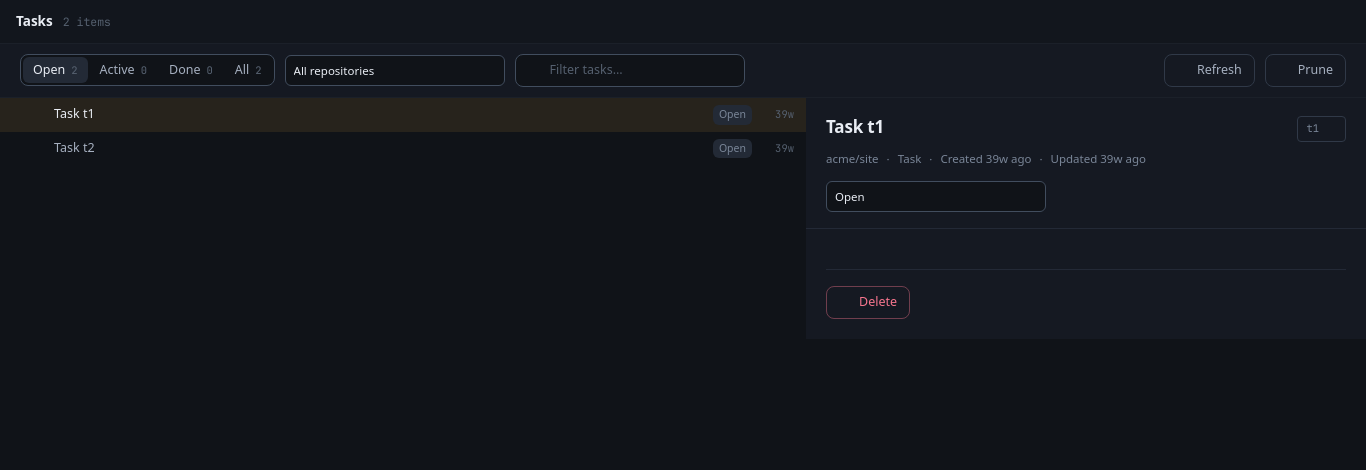
Test: TasksView › selects the first row of the new list when a repo switch drops the selection
The image size is (1366, 470).
Expected: the heading with test id "task-detail-title" reads "Task t1", [826,115,884,138]
Click the button with test id "tasks-repo-select".
click(394, 70)  # box [284,55,504,86]
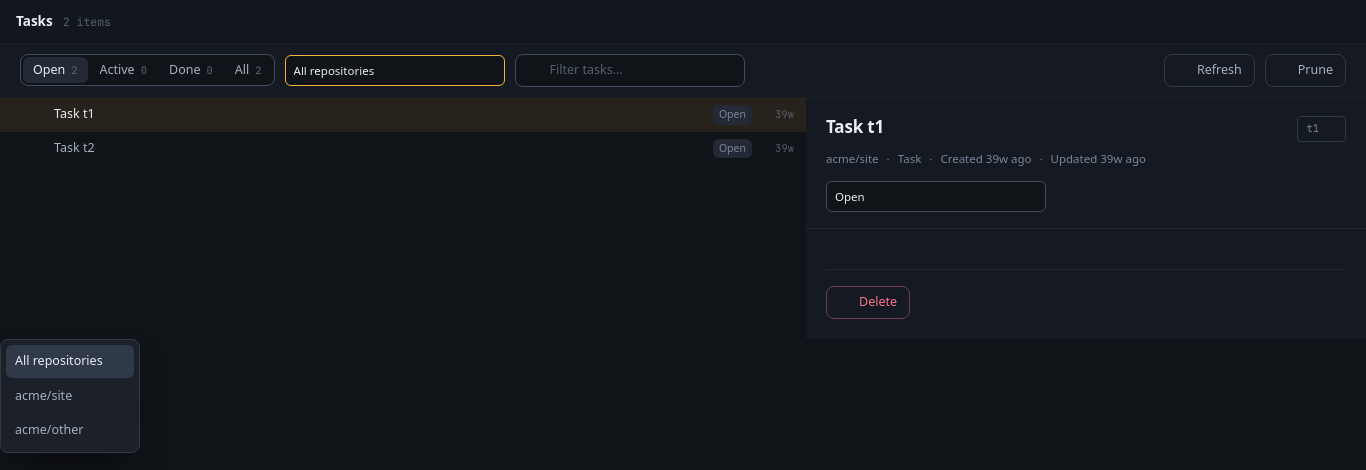
Click the button "acme/other".
click(70, 431)  # box [6,414,134,447]
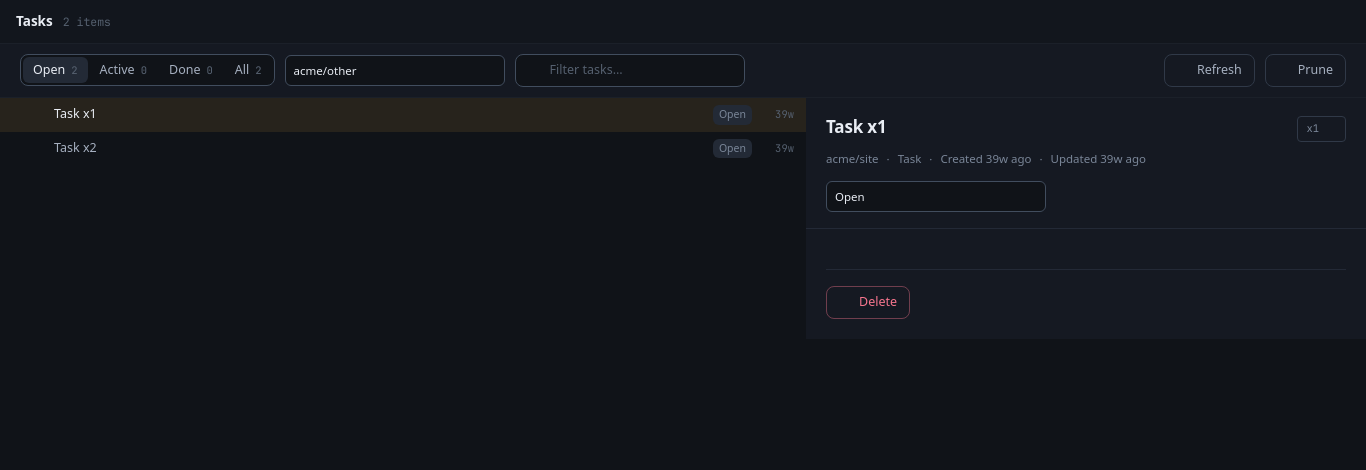
Expected: the heading with test id "task-detail-title" reads "Task x1", [826,115,886,138]
